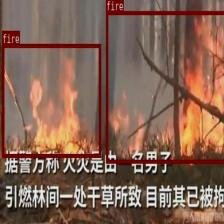fire: (105, 10, 224, 162), (2, 44, 101, 157)
